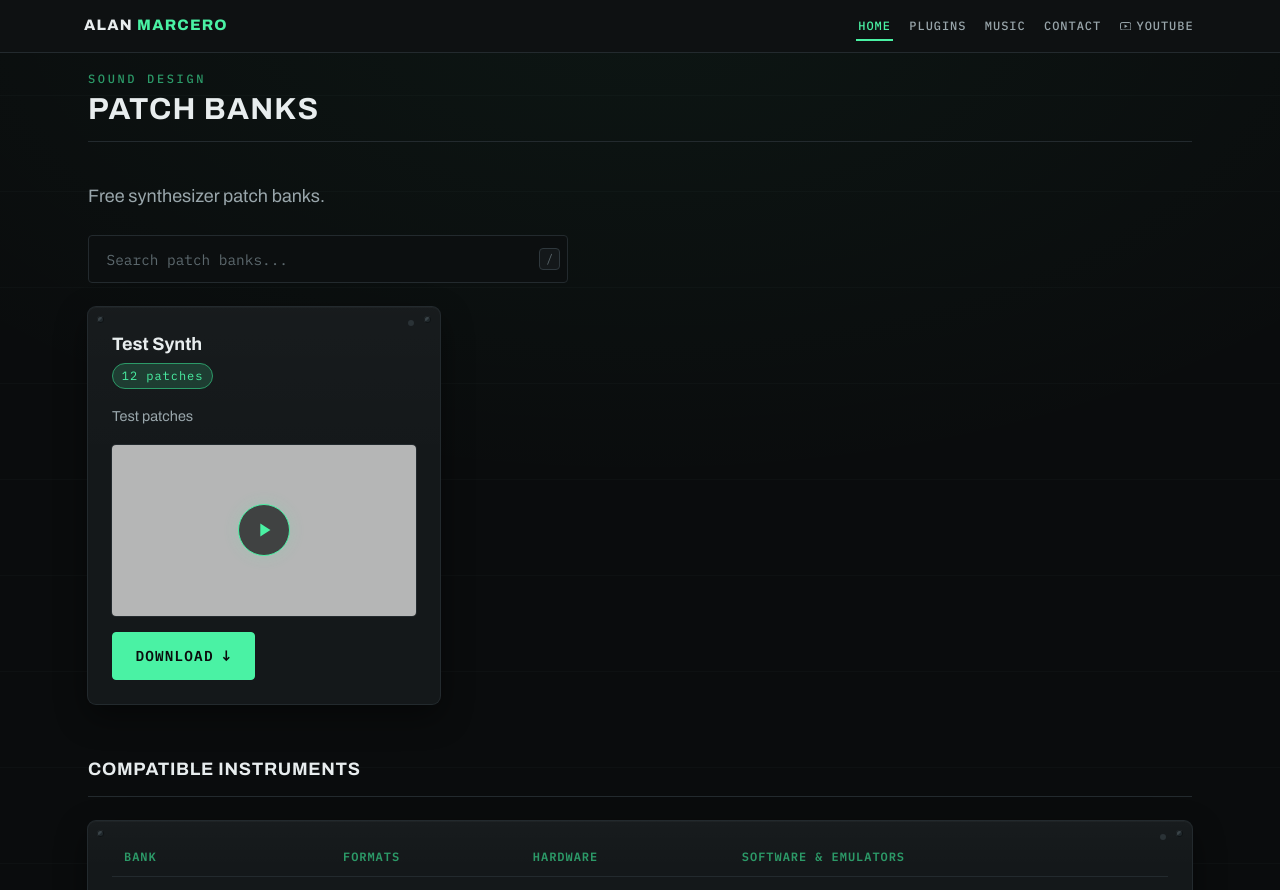
Scenario: PatchesPage › filters by name and description, then clears
This screenshot has width=1280, height=890.
Type "TEST SYNTH" into the search field with placeholder "Search patch banks..." at (328, 259), box x1=88 y1=235 x2=568 y2=283
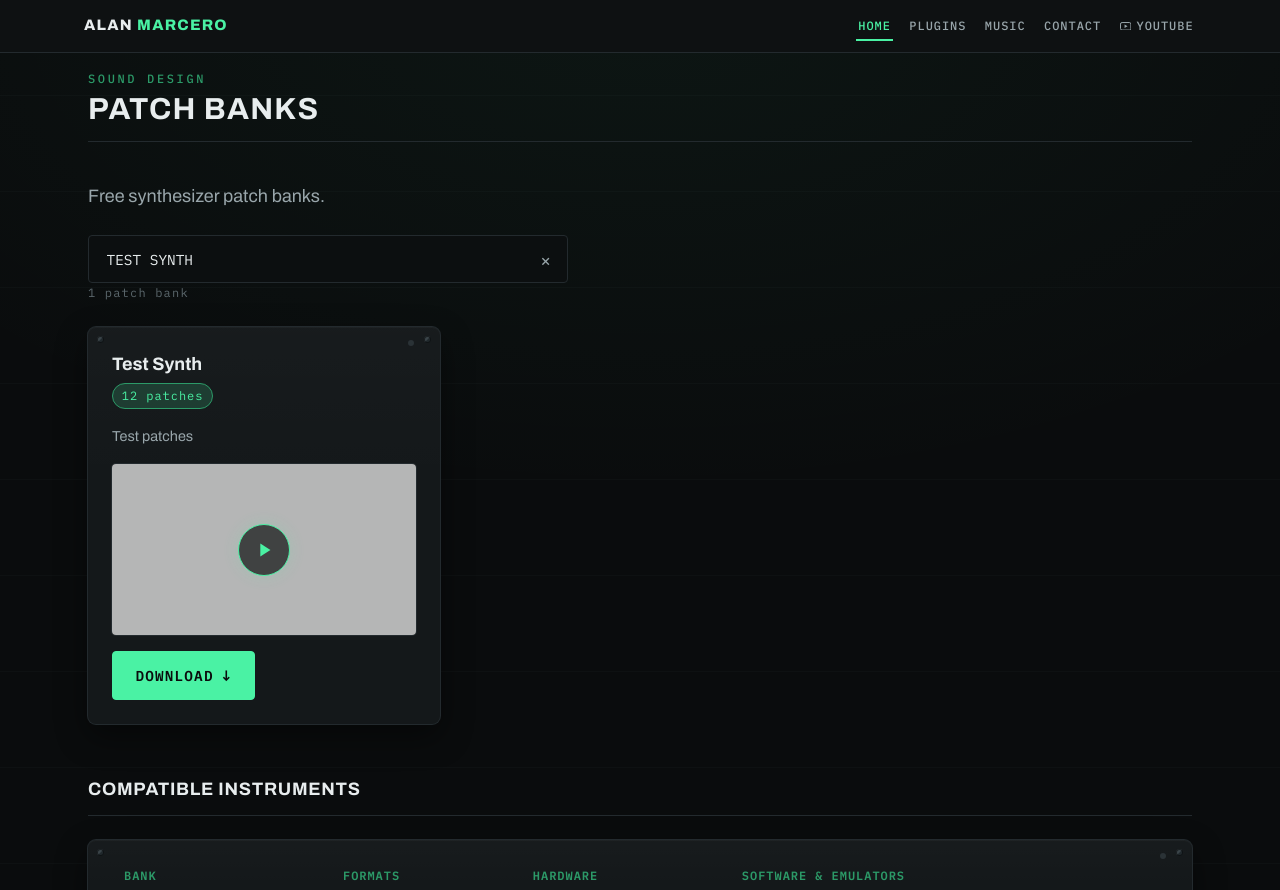
Check: the heading "Test Synth" is shown, box x1=112 y1=351 x2=202 y2=375
Replace the text in the search field with placeholder "Search patch banks..." with "Test patches" at (328, 259), box x1=88 y1=235 x2=568 y2=283
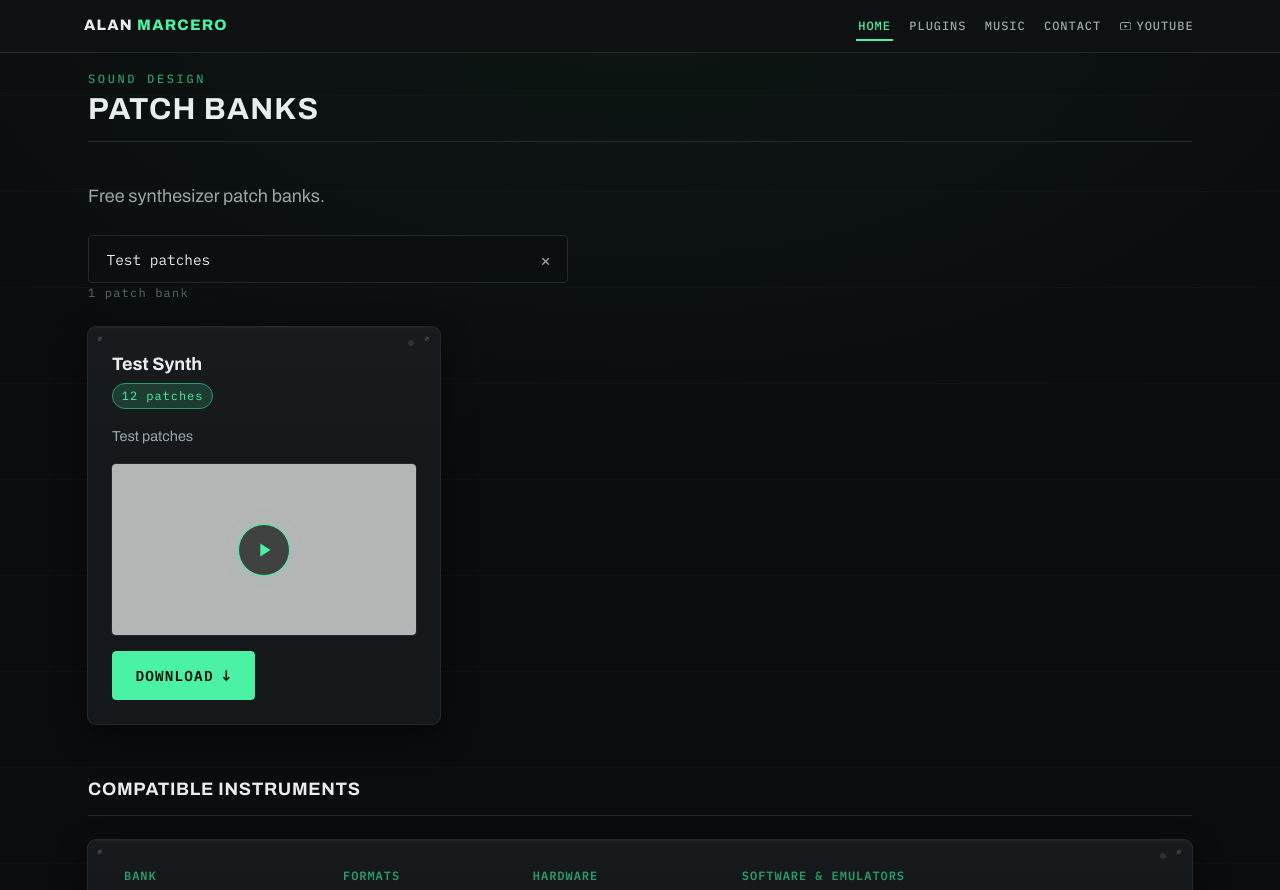
Check: the heading "Test Synth" is shown, box x1=112 y1=351 x2=202 y2=375
Replace the text in the search field with placeholder "Search patch banks..." with "missing" at (328, 259), box x1=88 y1=235 x2=568 y2=283
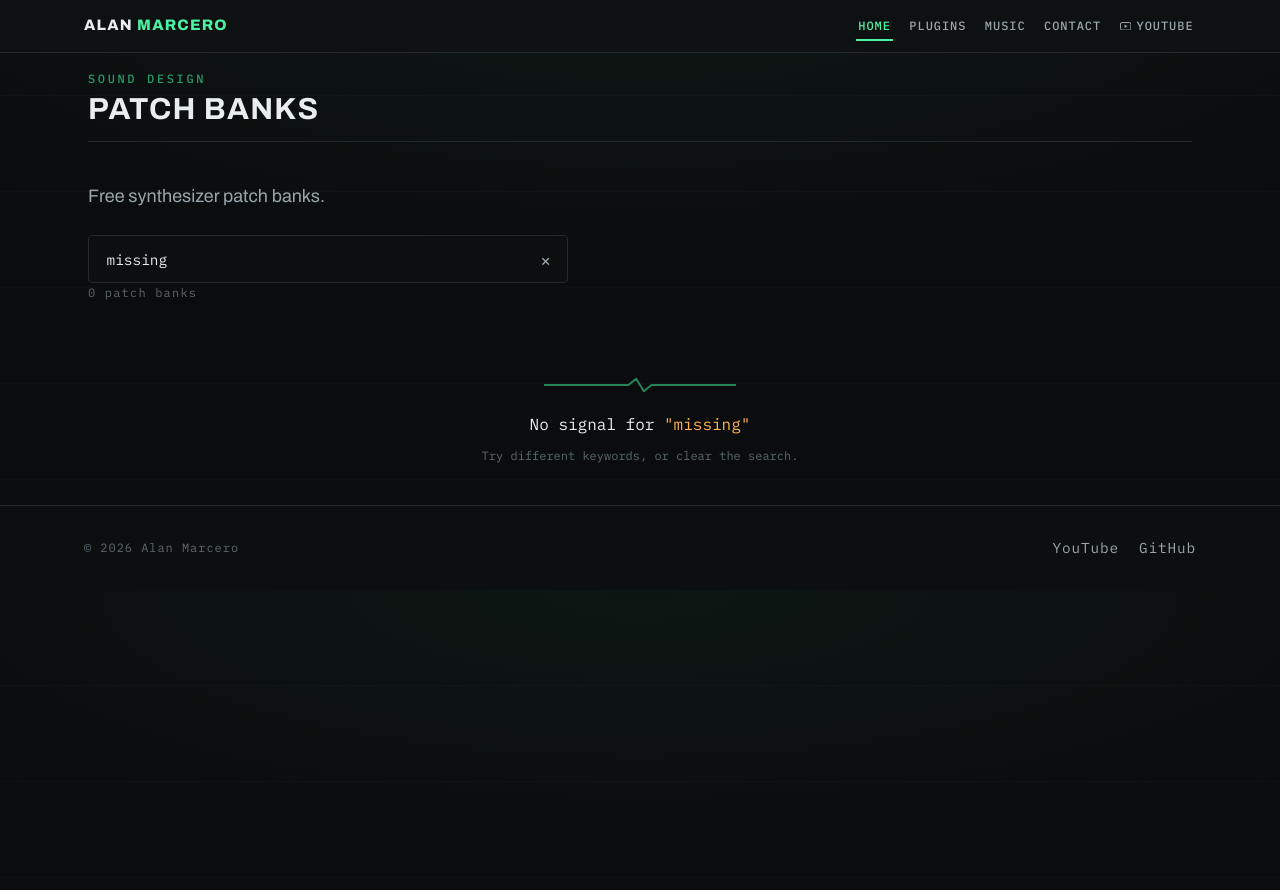
Check: the heading "Test Synth" is gone
Check: the text "No signal for \"missing\"" is shown, box x1=530 y1=411 x2=750 y2=438
Clear the search field with placeholder "Search patch banks..." at (328, 259), box x1=88 y1=235 x2=568 y2=283
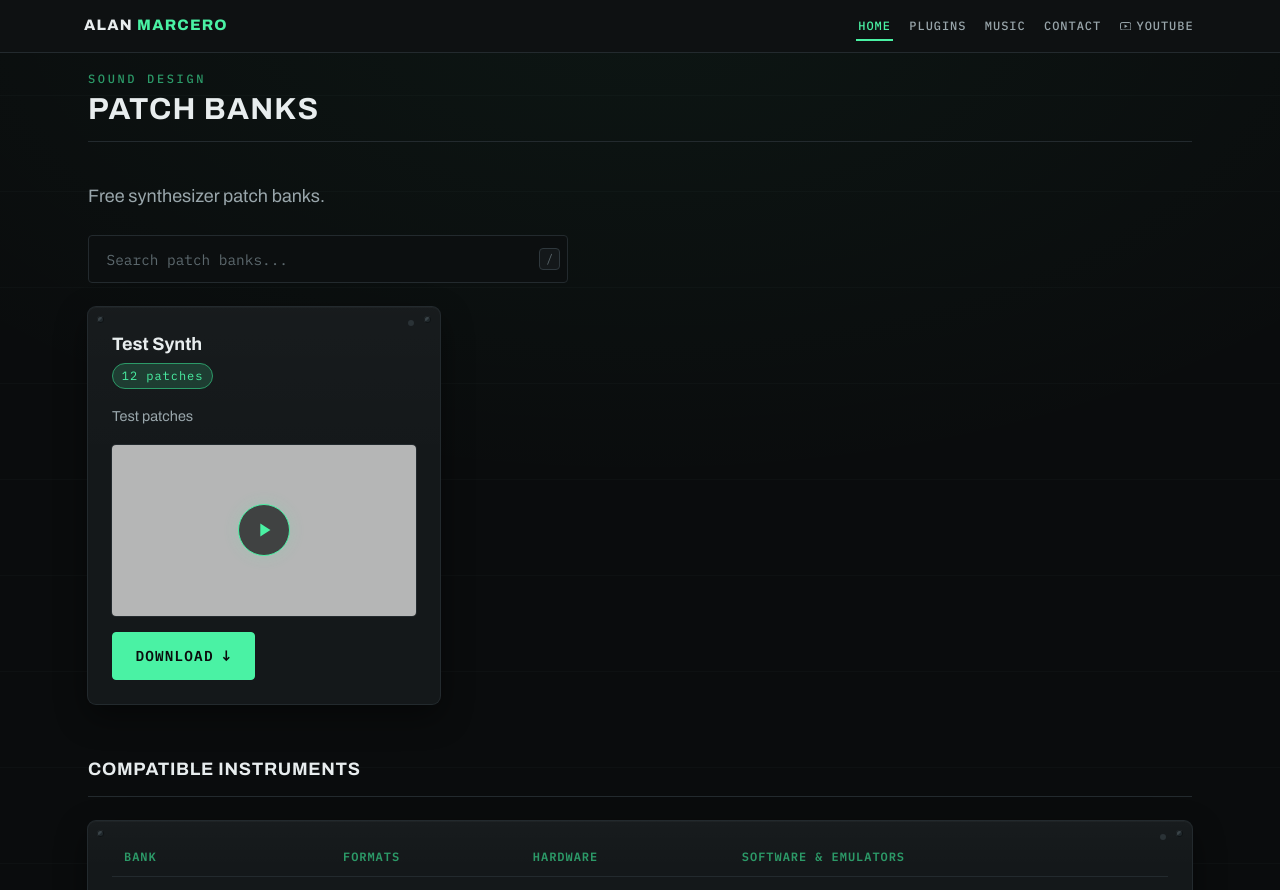
Check: the heading "Test Synth" is shown, box x1=112 y1=331 x2=202 y2=355
